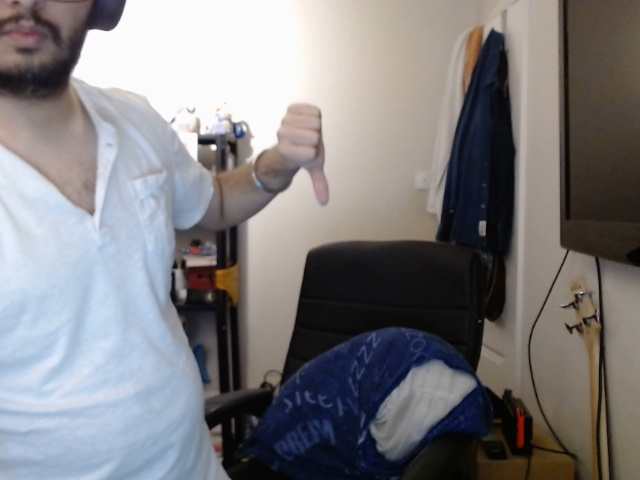Thumbs down: (276, 93, 358, 220)
